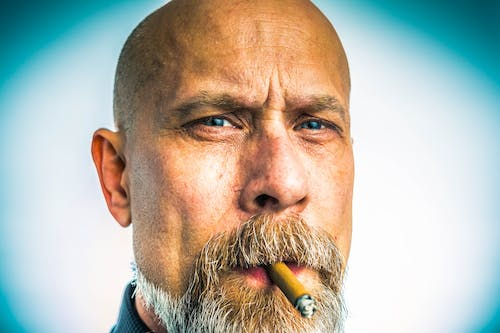cigarette: (263, 261, 319, 320)
